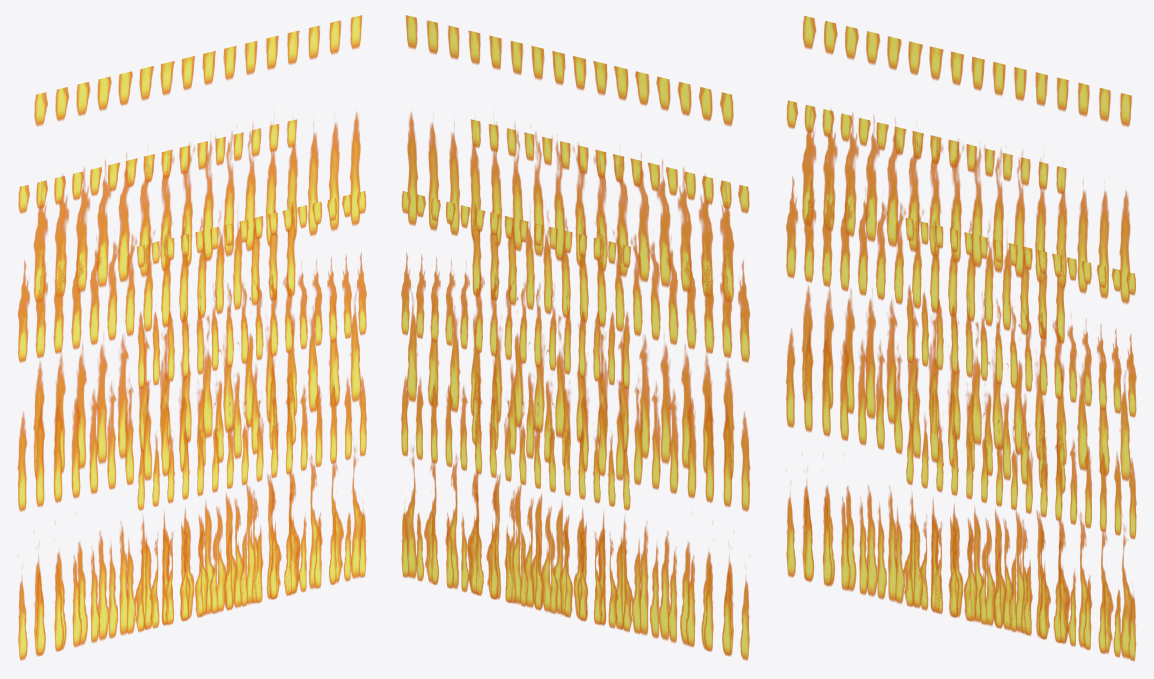
Rendered from mm9_deco_gatefire.glb.
3 renders of one model, left to right at view 1: azimuth 30°, elevation 25°; view 2: azimuth 150°, elevation 25°; view 3: azimuth 330°, elevation 25°, orthographic.
Parts seen in each view (by area): view 1: Gatefire; view 2: Gatefire; view 3: Gatefire.
Boxes of the visible parts, x1,y1,x2,y2 form: Gatefire: (17, 15, 366, 660); Gatefire: (401, 15, 750, 660); Gatefire: (786, 15, 1136, 661).
Size of the model in its own units: 1.06 by 1.6 by 0.
1 material, 1 textured.
